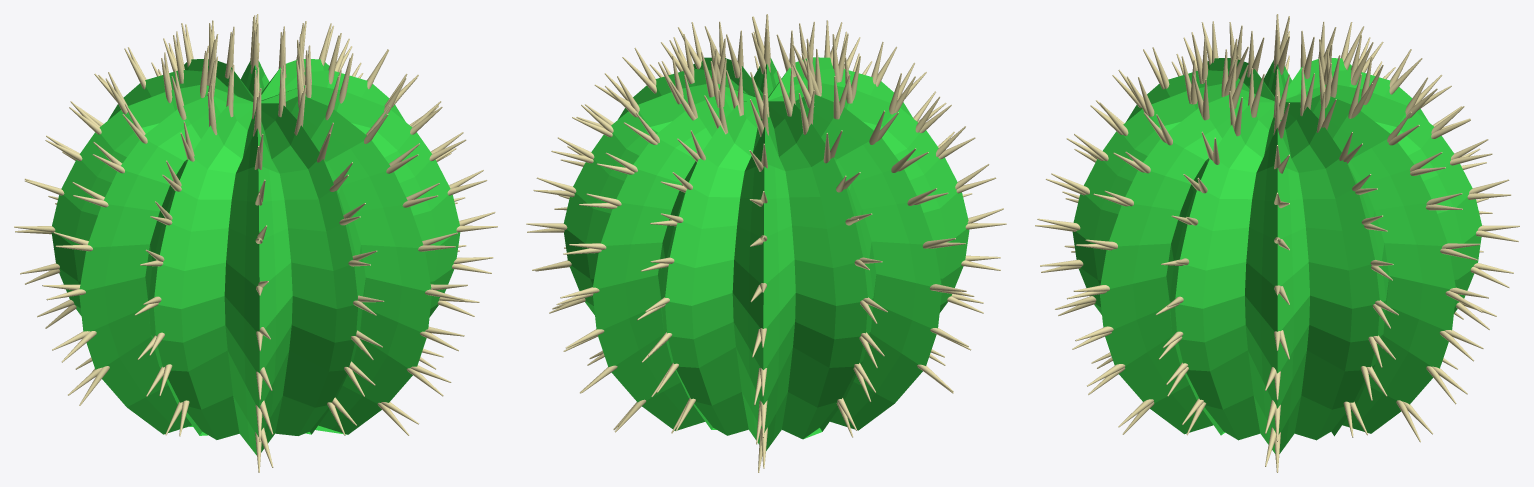
Rendered from Cactus2.fbx.
The picture shows the model from 3 angles, left to right: view 1: azimuth 30°, elevation 25°; view 2: azimuth 150°, elevation 25°; view 3: azimuth 270°, elevation 25°; orthographic projection.
Visible parts, largest first — view 1: CactusBody.003; view 2: CactusBody.003; view 3: CactusBody.003.
Boxes of the visible parts, box(x1,y1,x2,y2) form: CactusBody.003: box(51, 59, 460, 455); CactusBody.003: box(563, 57, 969, 450); CactusBody.003: box(1072, 58, 1481, 453).
Size of the model in its own units: 247 by 205 by 248.
